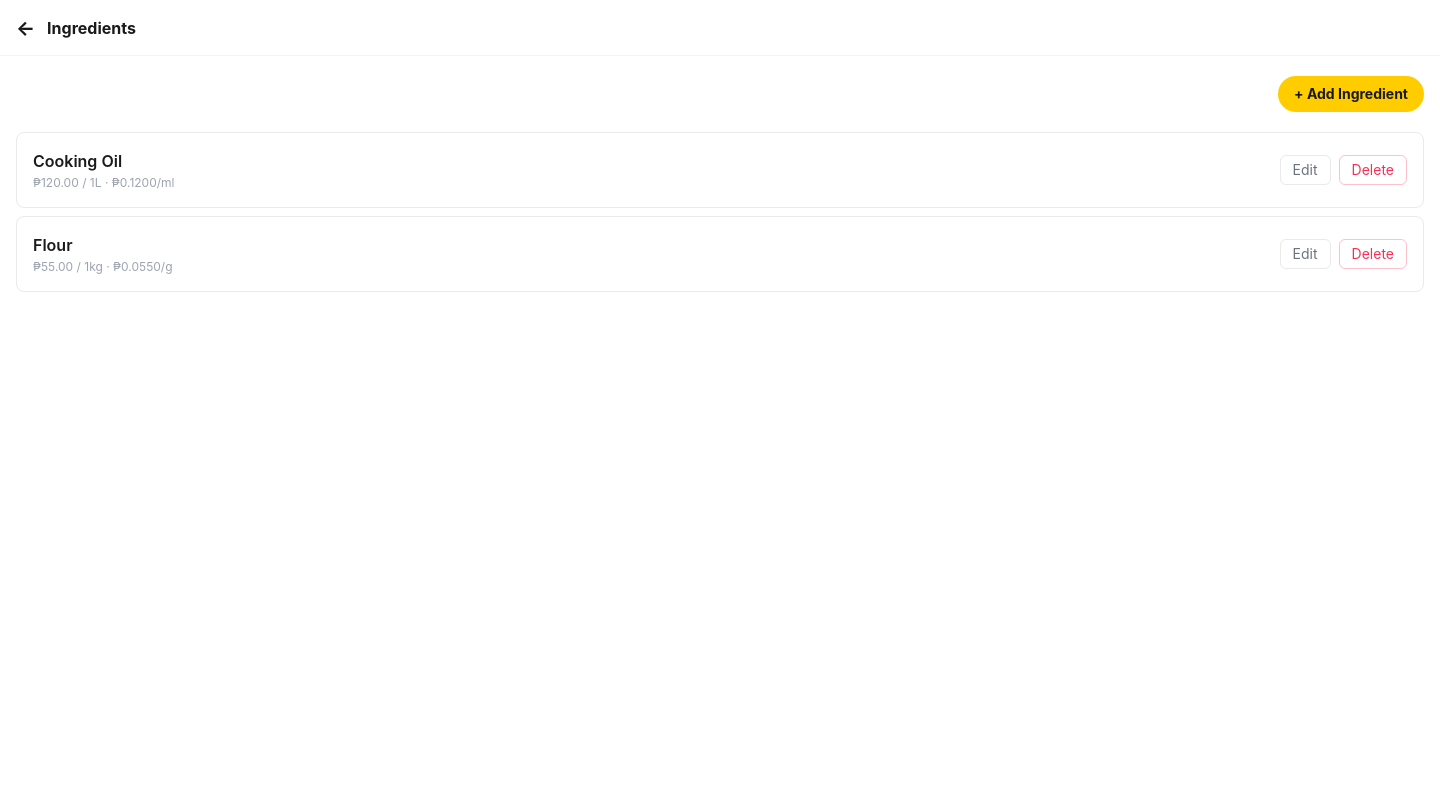
Ingredients › opens edit form pre-filled when Edit clicked
The image size is (1440, 810).
Expected: the text "Cooking Oil" is shown, [33,151,122,171]
Click the button "Edit" in the row of "Cooking Oil": {"x": 1305, "y": 170} [1280,155,1331,185]
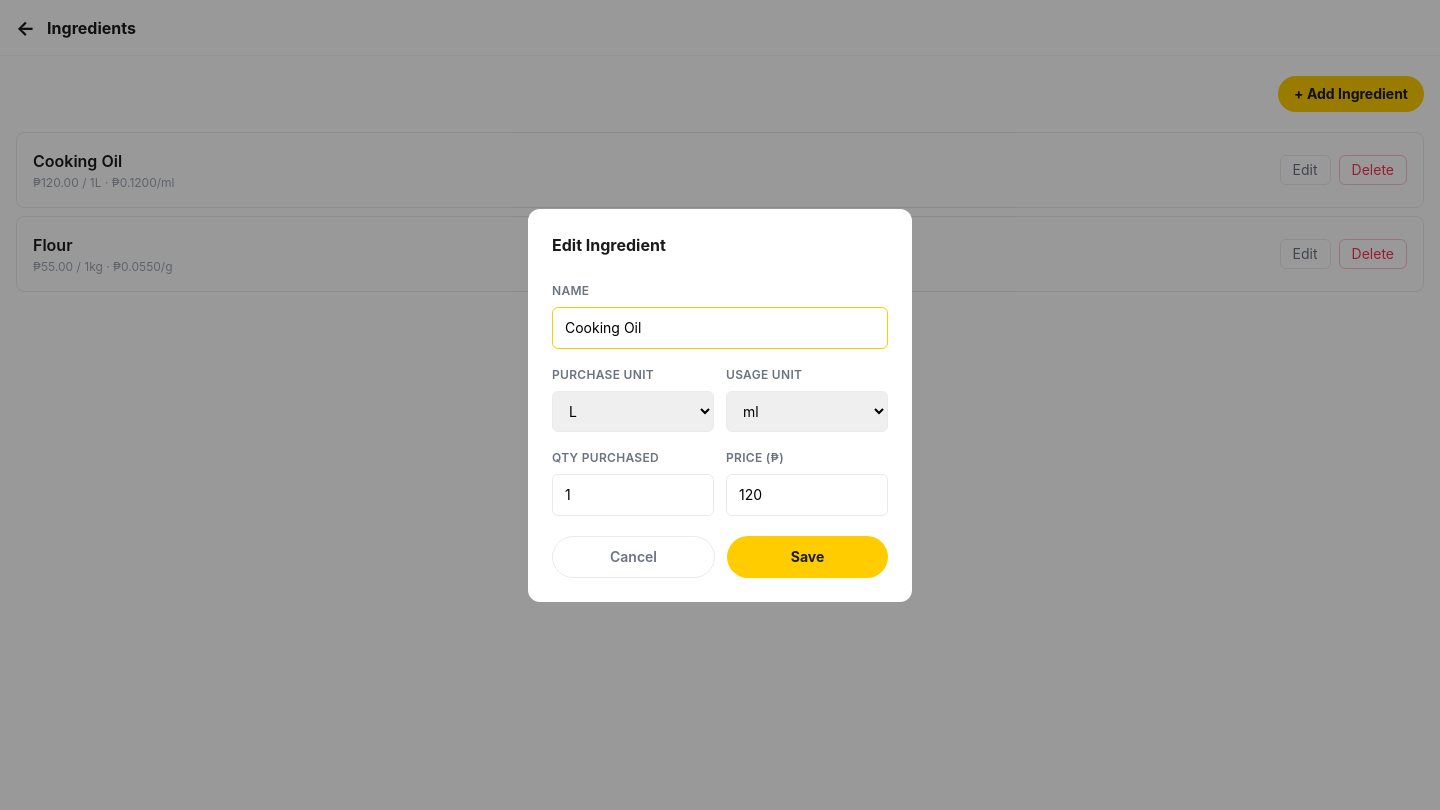
Expected: the heading "Edit Ingredient" is shown, [552,234,666,254]
Expected: the field showing "Cooking Oil" is shown, [552,306,888,348]
Expected: the number field showing "120" is shown, [726,474,888,516]
